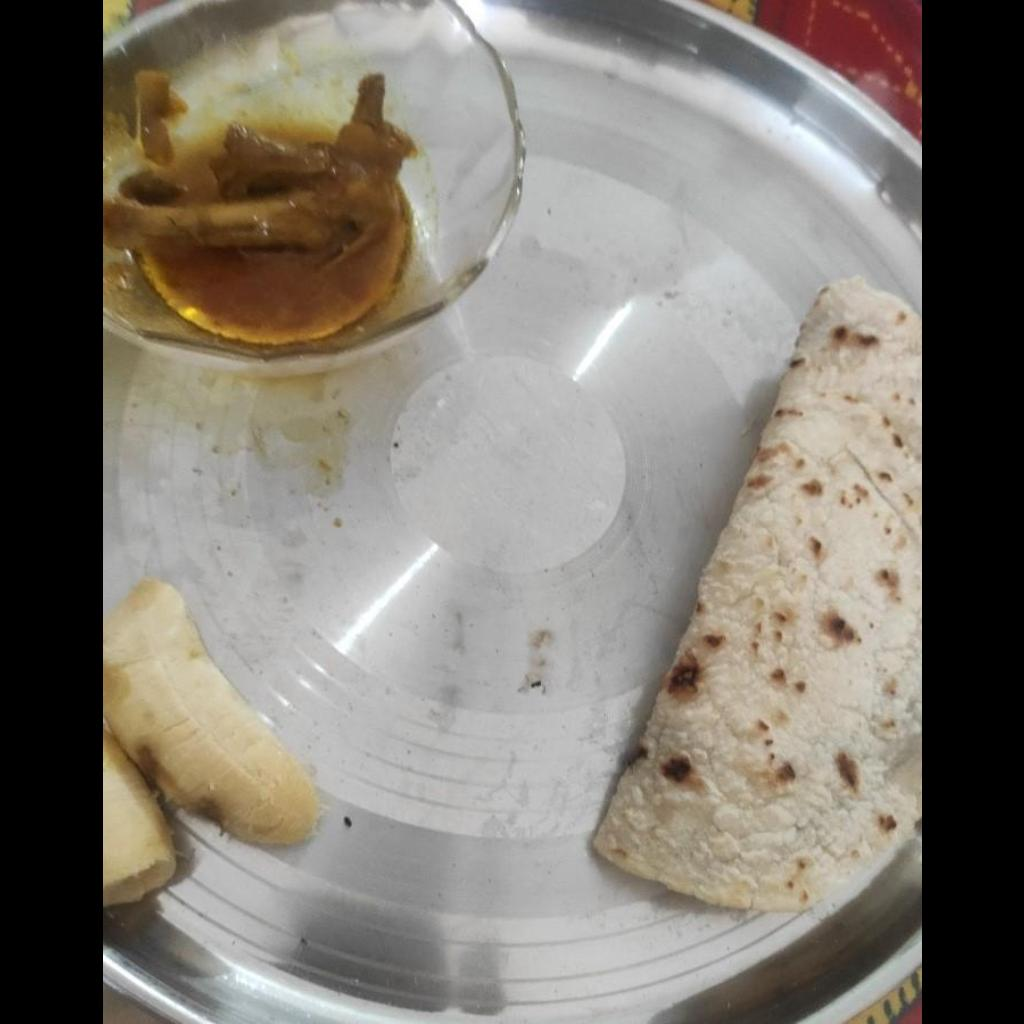banana: (102, 580, 320, 905)
chicken: (102, 69, 420, 274)
ruti: (594, 276, 919, 915)
